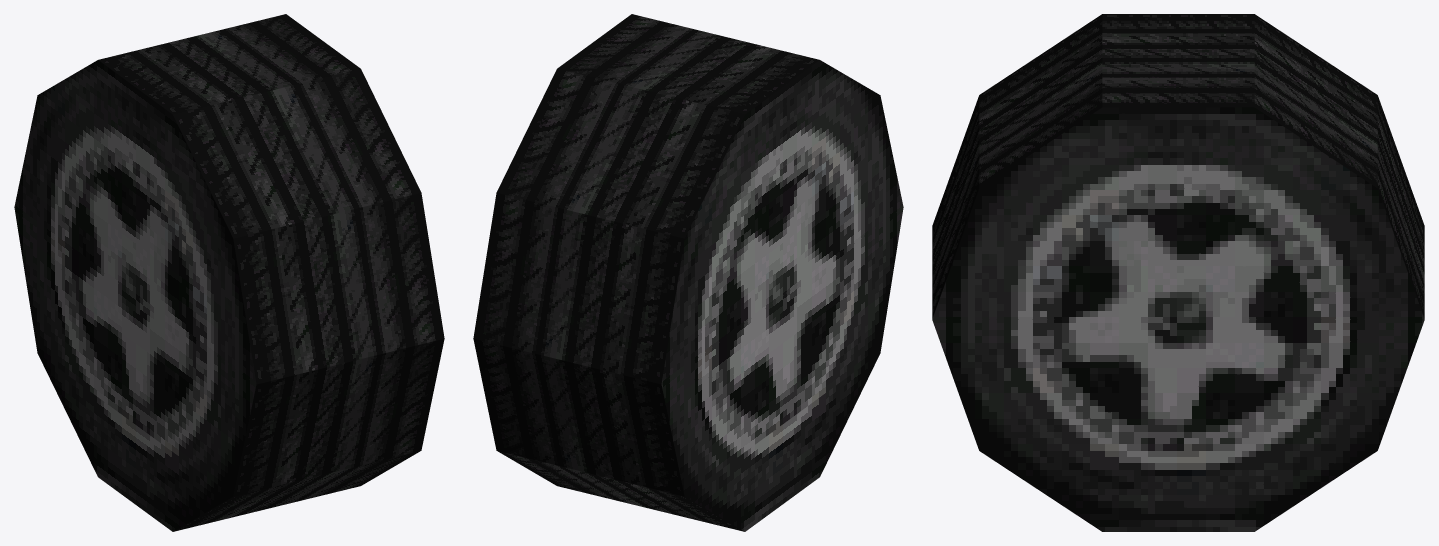
File: Rim_Wheel.fbx
3 renders of one model, left to right at view 1: azimuth 30°, elevation 25°; view 2: azimuth 150°, elevation 25°; view 3: azimuth 270°, elevation 25°, orthographic.
Parts seen in each view (by area): view 1: wheel_rim_l1; view 2: wheel_rim_l1; view 3: wheel_rim_l1.
Boxes of the visible parts, bbox=[...] form: wheel_rim_l1: bbox=[14, 14, 444, 531]; wheel_rim_l1: bbox=[473, 14, 903, 531]; wheel_rim_l1: bbox=[932, 14, 1424, 531].
Size of the model in its own units: 45.4 by 96.23 by 101.
2 materials, 2 textured.
